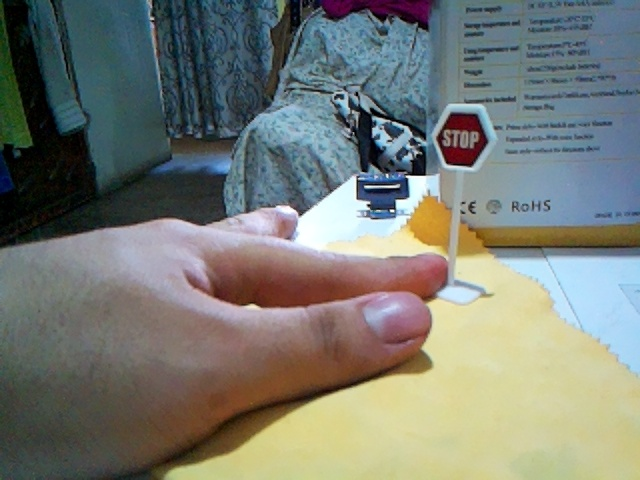stop_sign: (435, 105, 496, 170)
